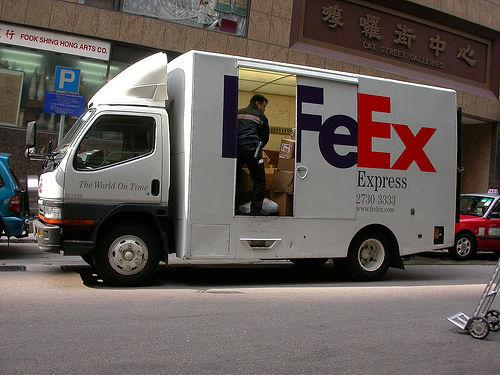truck: (32, 49, 457, 289)
